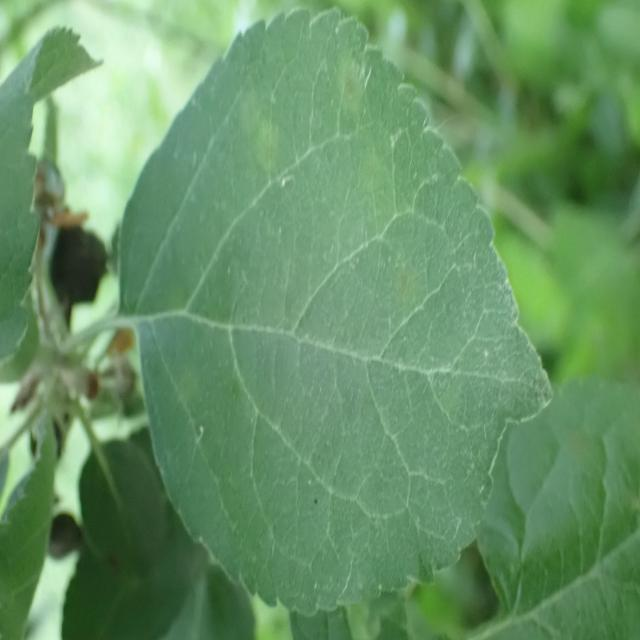scab: (165, 44, 475, 526)
